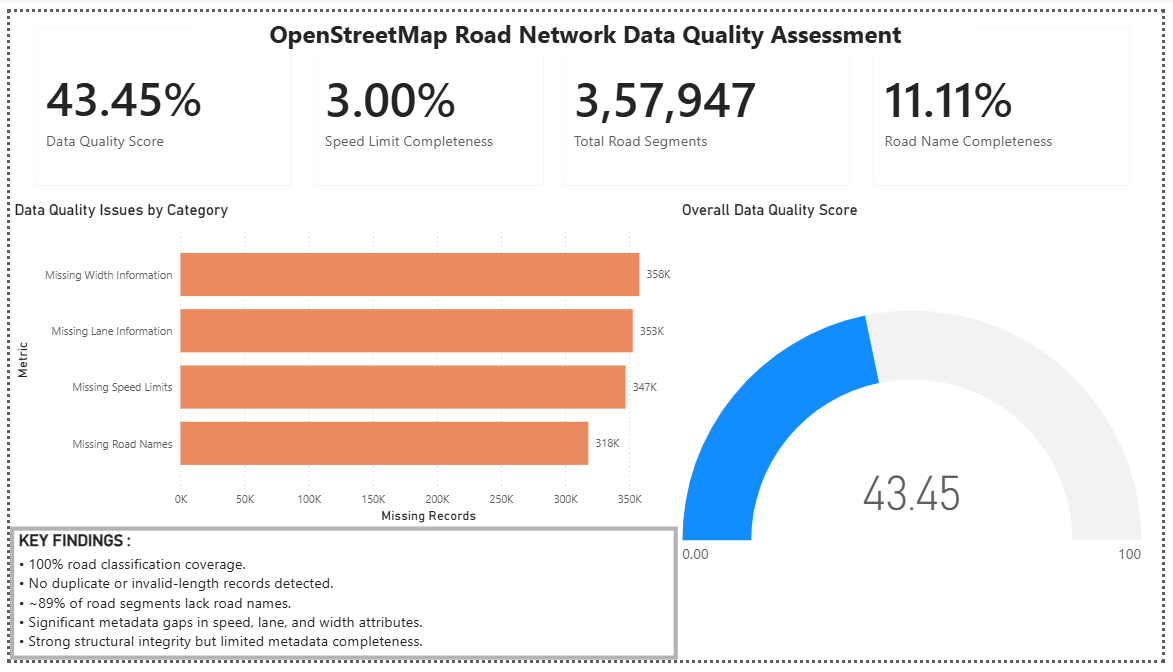

This screenshot's page, from the dashboard's own definition file:
{"tool":"powerbi","page":{"name":"Data Quality Assessment","canvas":[1280,720],"ordinal":0},"visuals":[{"type":"cardVisual","fields":{"Data":["validation_summary.Quality Score %"]},"box":[10,0,320,210],"z":0},{"type":"cardVisual","fields":{"Data":["validation_summary.Total Road Segments"]},"box":[596,0,354,210],"z":1000},{"type":"cardVisual","fields":{"Data":["validation_summary.Road Name Completeness Display"]},"box":[942,0,320,210],"z":2000},{"type":"cardVisual","fields":{"Data":["validation_summary.Speed Limit Completeness Display"]},"box":[320,0,290,210],"z":3000},{"type":"clusteredBarChart","title":"Data Quality Issues by Category","fields":{"Category":["validation_summary.Metric"],"Y":["Sum(validation_summary.Value)"]},"box":[0,210,760,362],"z":4000},{"type":"gauge","title":"Overall Data Quality Score","fields":{"MaxValue":["validation_summary.Target Score"],"Y":["validation_summary.Quality Score"]},"box":[742,210,520,510],"z":5000},{"type":"textbox","title":"KEY FINDINGS :","box":[0,572,742,148],"z":6000},{"type":"textbox","box":[208,0,862,48],"z":8000}]}

Visuals, with their boxes in screenshot pixels (x1, y1, x2, y2), scaled from the page's 1280x720 canvas onto the 1173x672 screenshot:
cardVisual - validation_summary.Quality Score %: 9, 0, 302, 196
cardVisual - validation_summary.Total Road Segments: 546, 0, 871, 196
cardVisual - validation_summary.Road Name Completeness Display: 863, 0, 1157, 196
cardVisual - validation_summary.Speed Limit Completeness Display: 293, 0, 559, 196
"Data Quality Issues by Category" clusteredBarChart: 0, 196, 696, 534
"Overall Data Quality Score" gauge: 680, 196, 1157, 671
"KEY FINDINGS :" textbox: 0, 534, 680, 671
textbox: 191, 0, 981, 45
